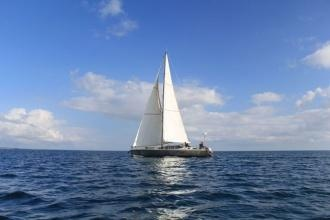fanchuan: (126, 47, 218, 159)
